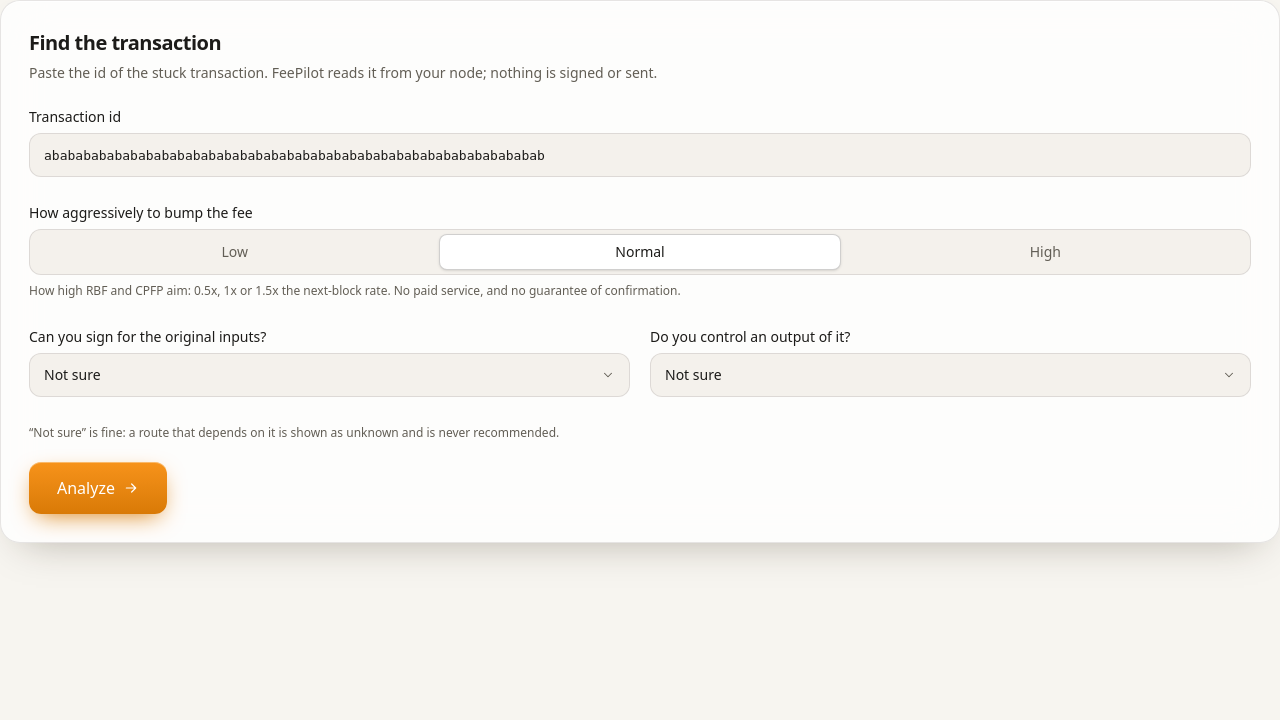
FindForm › shows the error returned by the API inline
This screenshot has width=1280, height=720.
Click the button "Analyze" at (98, 488), box [29,462,167,514]
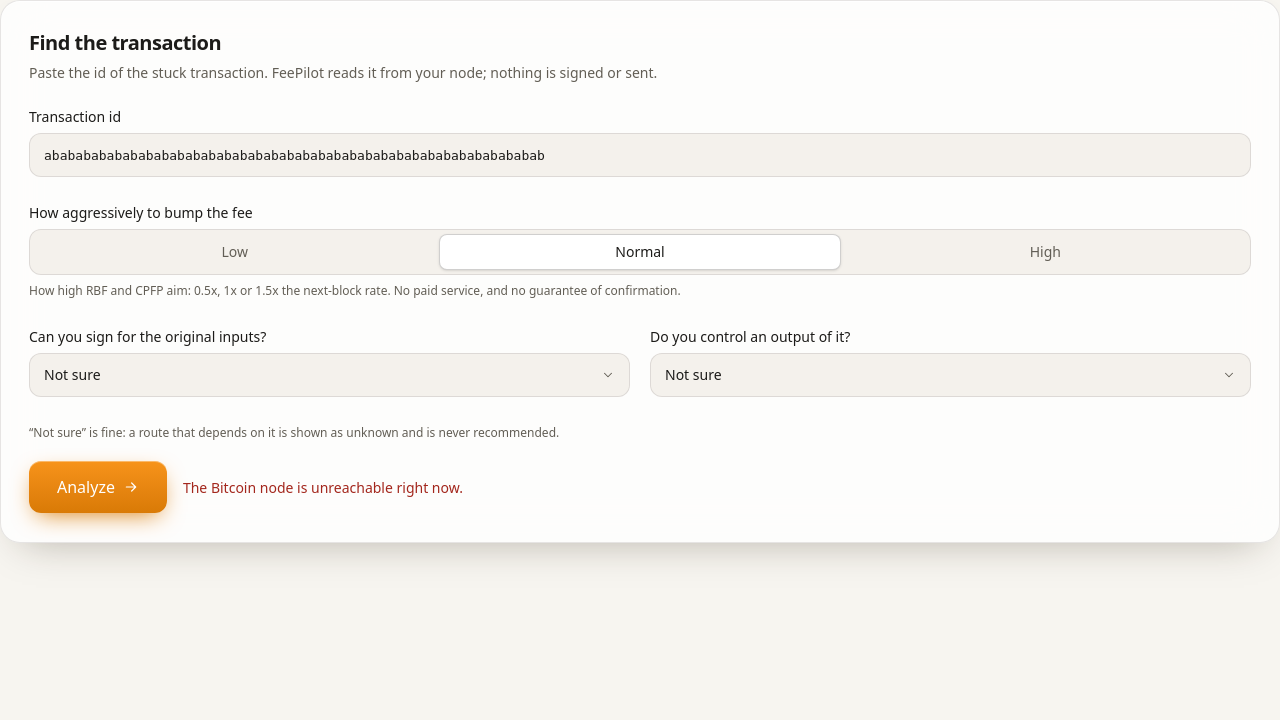
expect the message "The Bitcoin node is unreachable right now." is shown: met, box [183,478,463,498]
